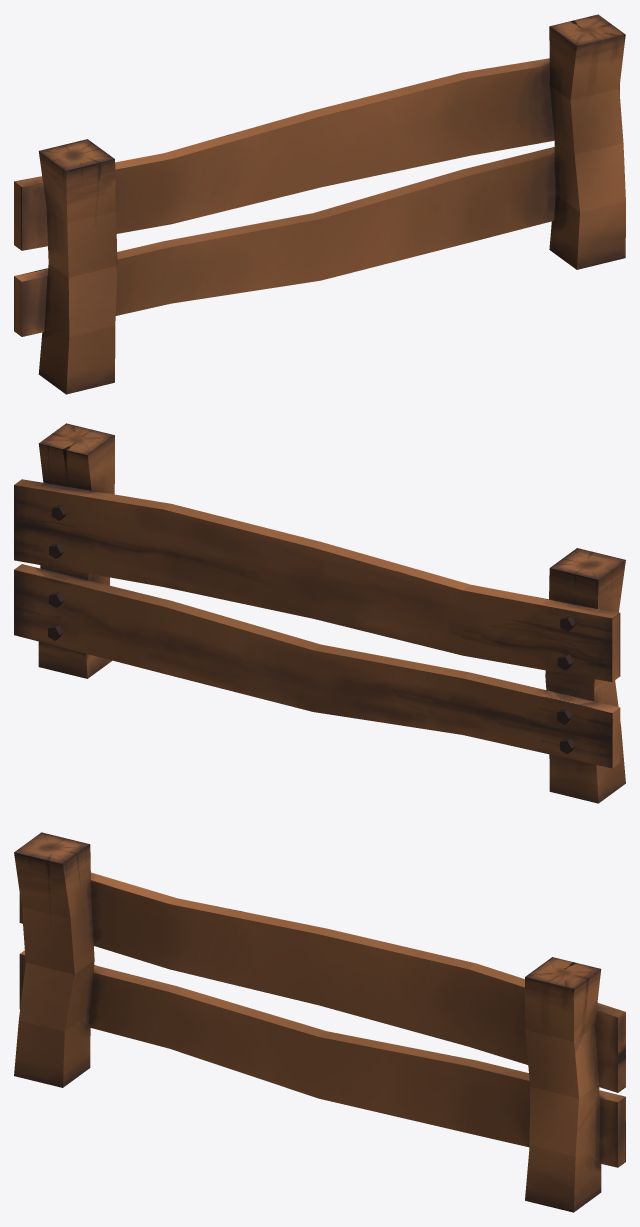
Rendered from ARC0710098.fbx.
The picture shows the model from 3 angles, top to bottom: view 1: azimuth 30°, elevation 25°; view 2: azimuth 150°, elevation 25°; view 3: azimuth 330°, elevation 25°; orthographic projection.
Visible parts, largest first — view 1: smARC0710098; view 2: smARC0710098; view 3: smARC0710098.
Part boxes in pixels (<box>): smARC0710098: <box>14,14,625,394</box>; smARC0710098: <box>14,423,625,803</box>; smARC0710098: <box>14,832,625,1212</box>.
Bounding box in the file's own units: 303 × 108 × 32.65.
Materials: 1 (1 with a texture image).
